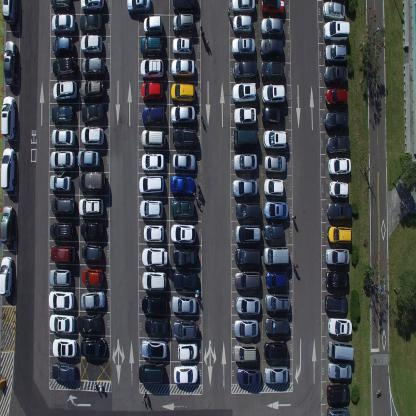car: (0, 93, 16, 142), (322, 18, 349, 43), (1, 147, 16, 192), (3, 38, 17, 86), (232, 80, 258, 105), (0, 204, 15, 247), (78, 170, 106, 193), (326, 338, 355, 360), (231, 127, 258, 150), (262, 244, 290, 266), (80, 336, 108, 358), (0, 255, 14, 299), (172, 126, 198, 149), (49, 219, 75, 242), (141, 246, 168, 268), (141, 294, 168, 316), (234, 269, 261, 291), (326, 200, 353, 222), (322, 110, 349, 132), (170, 173, 195, 196), (235, 245, 260, 268), (261, 82, 286, 105), (52, 79, 77, 102), (170, 222, 196, 244), (172, 246, 198, 268), (172, 269, 198, 291), (140, 127, 166, 149), (141, 270, 167, 292), (172, 318, 198, 340), (141, 338, 167, 360), (138, 362, 164, 384), (264, 291, 290, 313), (262, 129, 288, 151), (76, 312, 102, 334), (172, 364, 199, 385), (234, 223, 261, 244), (231, 178, 258, 199), (326, 381, 350, 404), (170, 104, 195, 126), (139, 57, 164, 79), (263, 339, 288, 361), (233, 341, 258, 363), (259, 36, 284, 58), (231, 36, 256, 58), (325, 269, 350, 291), (327, 224, 352, 246), (51, 12, 76, 34), (80, 125, 105, 147), (50, 148, 75, 170), (52, 336, 77, 358), (170, 57, 196, 78), (138, 174, 164, 195), (232, 152, 258, 173), (322, 64, 348, 85), (49, 312, 75, 333), (234, 294, 261, 314), (82, 56, 105, 79), (171, 12, 195, 34), (140, 35, 164, 57), (139, 198, 163, 220), (263, 152, 287, 174), (261, 106, 285, 128), (260, 59, 284, 81), (328, 315, 352, 337), (324, 86, 348, 108), (323, 42, 347, 64), (79, 12, 103, 34), (81, 102, 105, 124), (80, 219, 104, 241), (264, 315, 289, 336), (324, 293, 349, 314), (52, 57, 77, 78), (50, 195, 75, 216), (170, 82, 196, 102), (171, 294, 197, 314), (233, 318, 259, 338), (235, 201, 261, 221), (232, 59, 258, 79), (324, 246, 350, 266), (78, 196, 104, 216), (51, 362, 77, 382), (48, 290, 74, 310), (141, 104, 164, 126), (233, 104, 256, 126), (171, 197, 195, 218), (172, 152, 196, 173), (140, 80, 164, 101), (141, 152, 165, 173), (265, 271, 289, 292), (264, 199, 288, 220), (80, 79, 104, 100), (80, 242, 104, 263), (325, 134, 350, 154), (51, 127, 76, 147), (76, 148, 101, 168), (80, 290, 106, 309), (263, 176, 285, 198), (233, 13, 254, 36), (51, 104, 74, 125), (237, 366, 261, 386), (264, 364, 288, 384), (322, 0, 346, 20), (48, 267, 72, 287), (144, 317, 169, 336), (50, 244, 76, 262), (142, 223, 165, 243), (328, 156, 351, 176), (80, 34, 103, 54), (81, 267, 104, 287), (260, 16, 284, 35), (327, 360, 352, 378), (143, 14, 163, 36), (176, 342, 198, 362), (52, 36, 74, 56), (49, 172, 71, 192), (172, 36, 193, 56), (264, 221, 284, 242), (328, 179, 349, 199), (260, 0, 286, 15), (2, 0, 16, 27), (126, 0, 152, 14), (230, 0, 256, 14), (80, 0, 105, 13), (171, 0, 198, 11), (326, 404, 350, 415), (50, 0, 72, 12)
